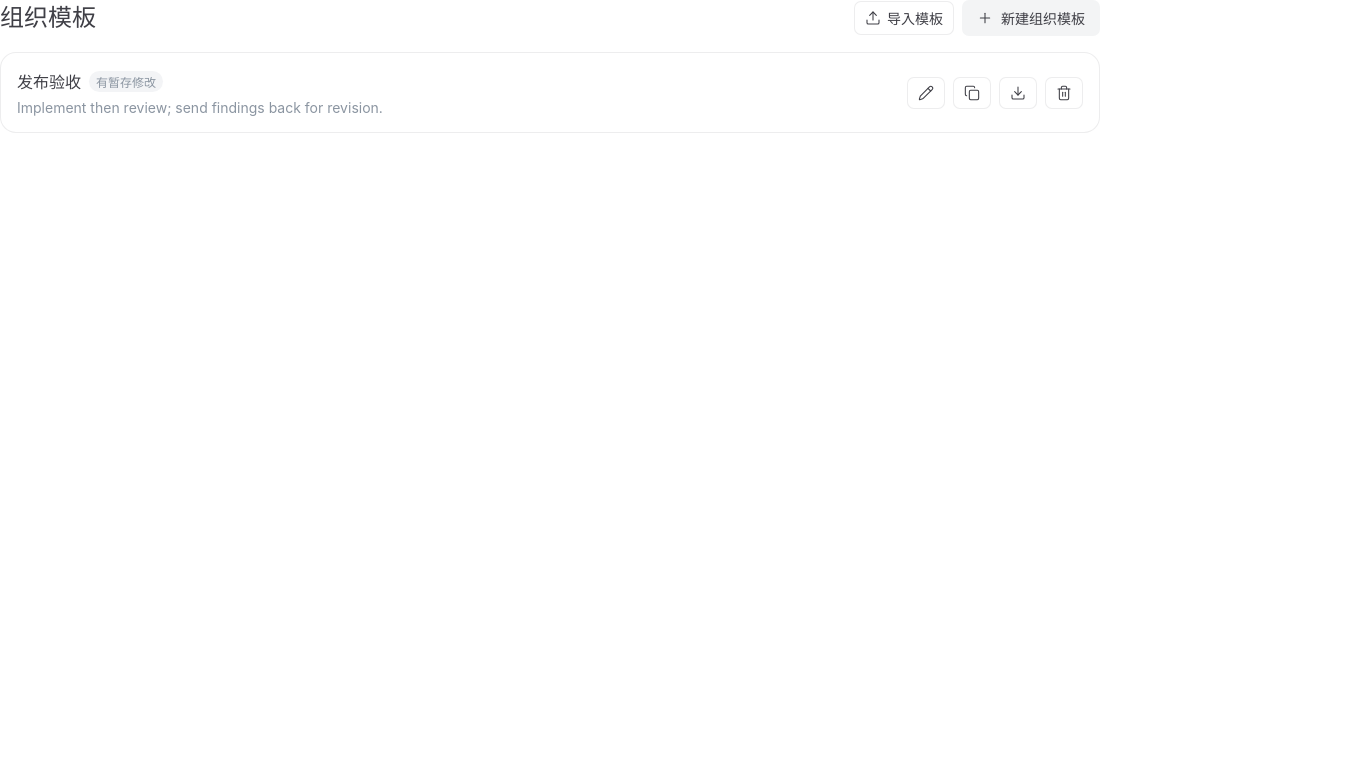
Test case: organization template lifecycle › preserves a newer editing draft when an older editor tries to publish
Click the button named "编辑组织模板 发布验收" at (926,92), box left=907, top=76, right=945, bottom=108
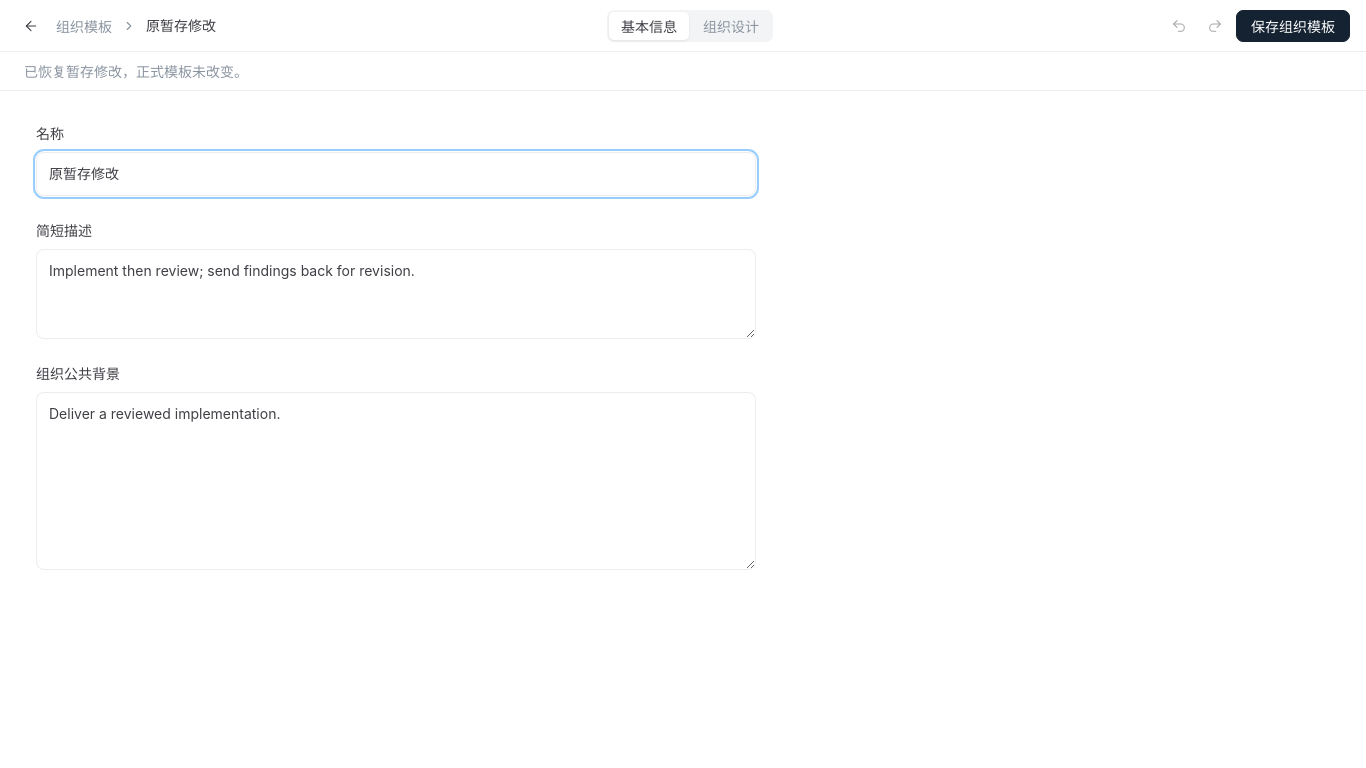
Replace the text in the field labelled "名称" with "当前窗口修改" at (396,174), box left=36, top=152, right=756, bottom=196
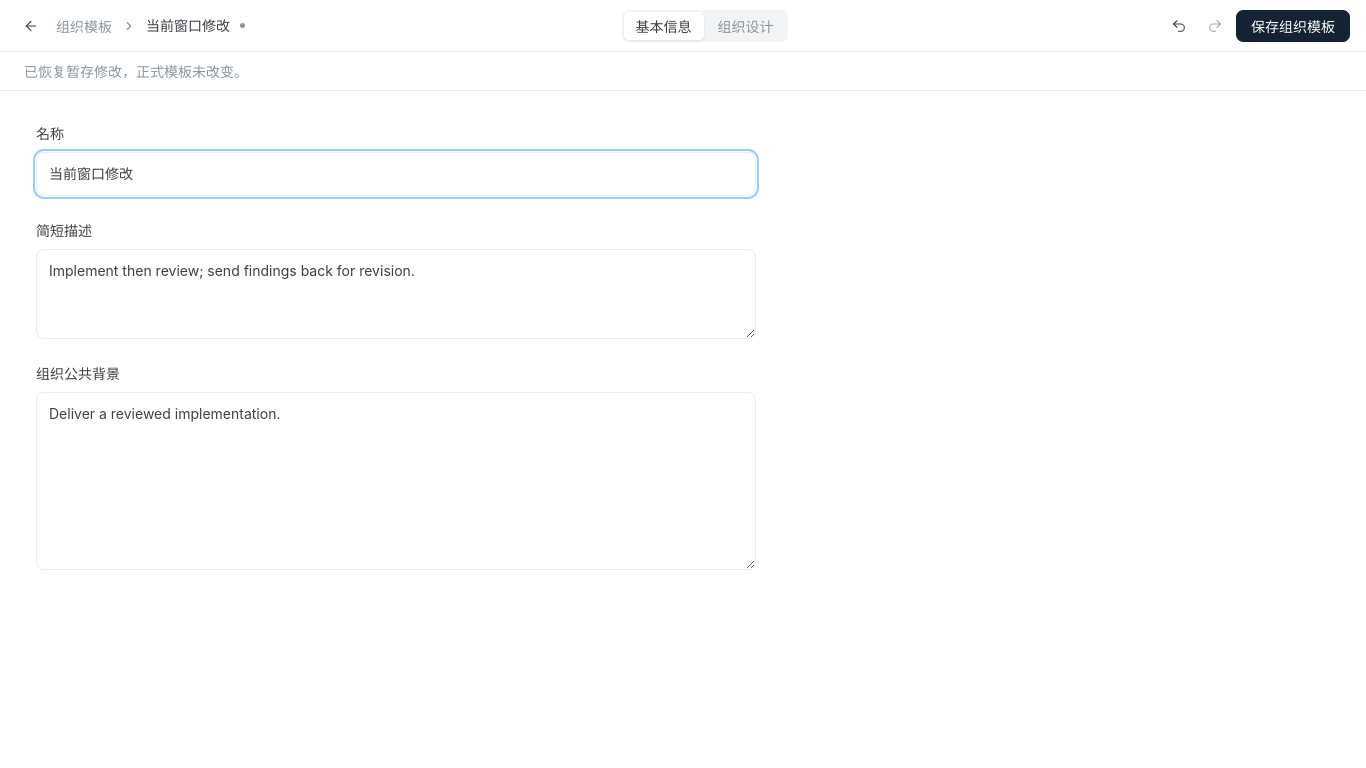
Click the button "保存组织模板" at (1293,26), box left=1236, top=10, right=1350, bottom=42
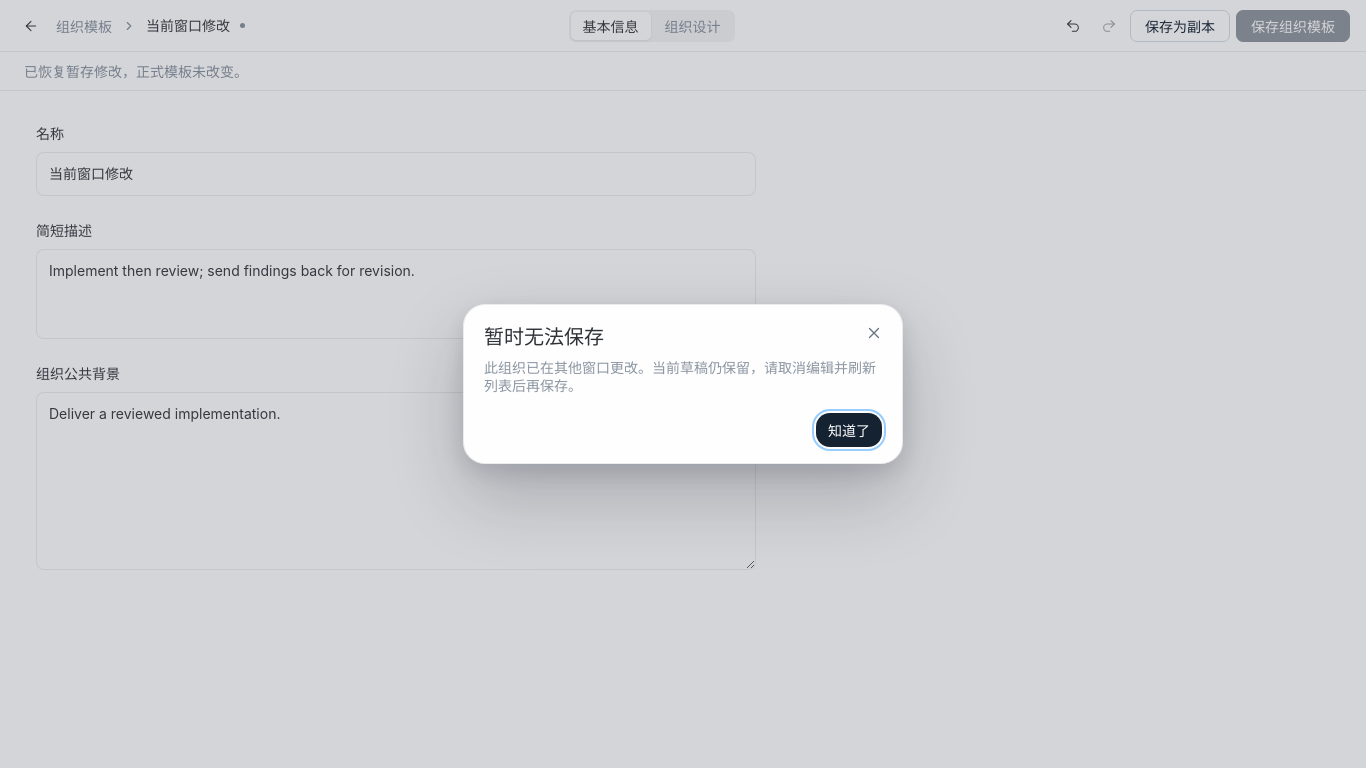
Result: the dialog "暂时无法保存" shows "此组织已在其他窗口更改" at left=484, top=359, right=876, bottom=394
Click the button "知道了" at (849,430), box left=816, top=413, right=882, bottom=447
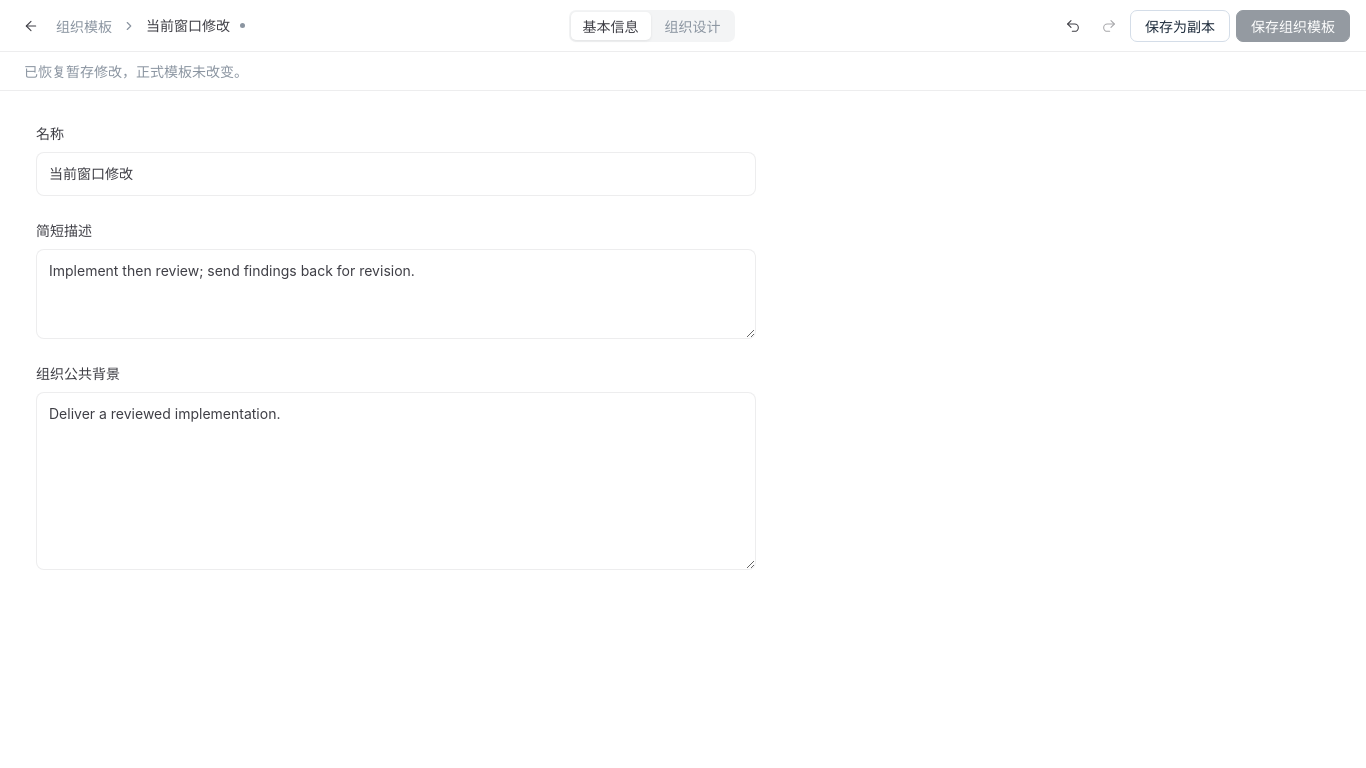
Click the button "保存为副本" at (1180,26), box left=1130, top=10, right=1230, bottom=42
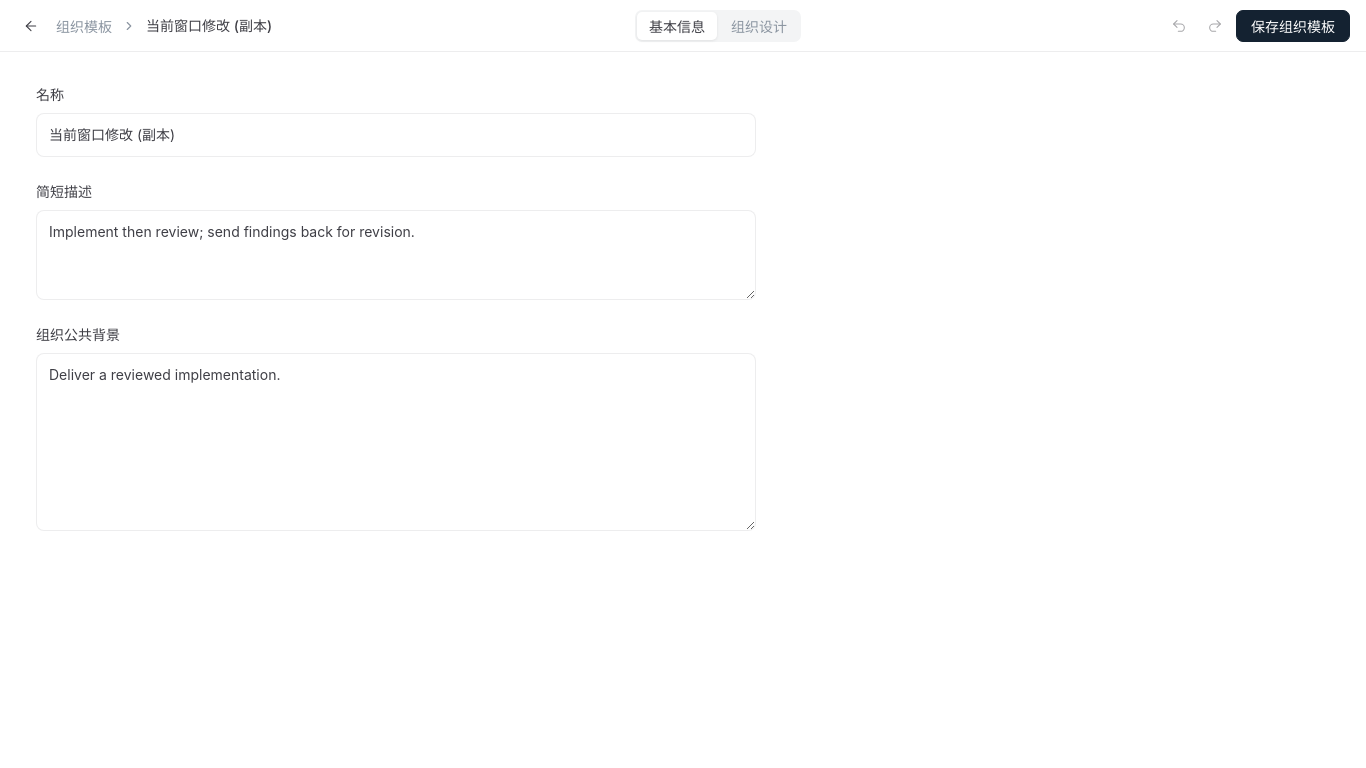
Result: the heading "当前窗口修改 (副本)" is shown at left=146, top=16, right=272, bottom=35
